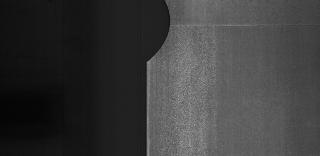welding line: (170, 22, 320, 32)
